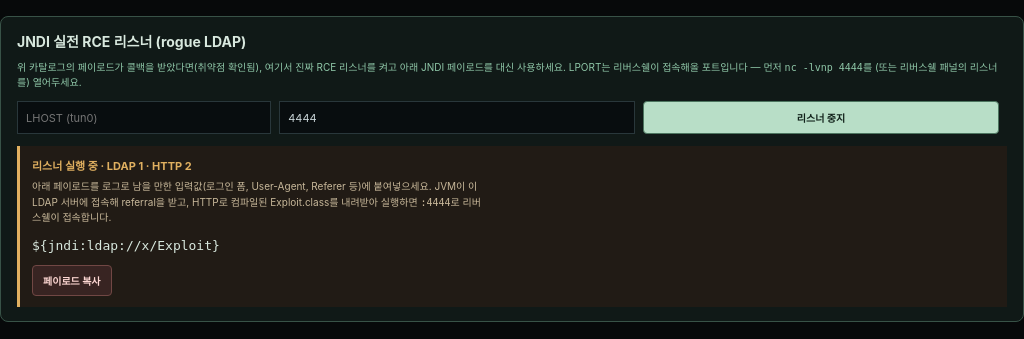
Test: stops the listener and hides the payload once stopped
Step 1. Click the button "리스너 중지" → (821, 118), box [643,101,999,134]
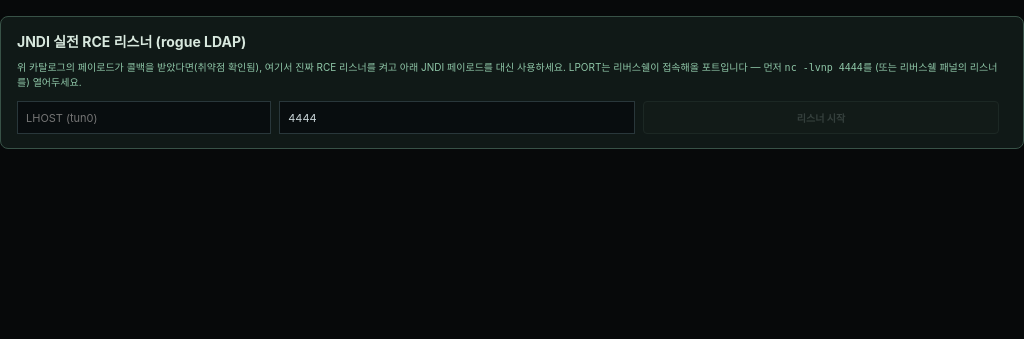
Result: the button "리스너 시작" is shown at [643,101,999,134]
Result: the text "실행 중" is gone
